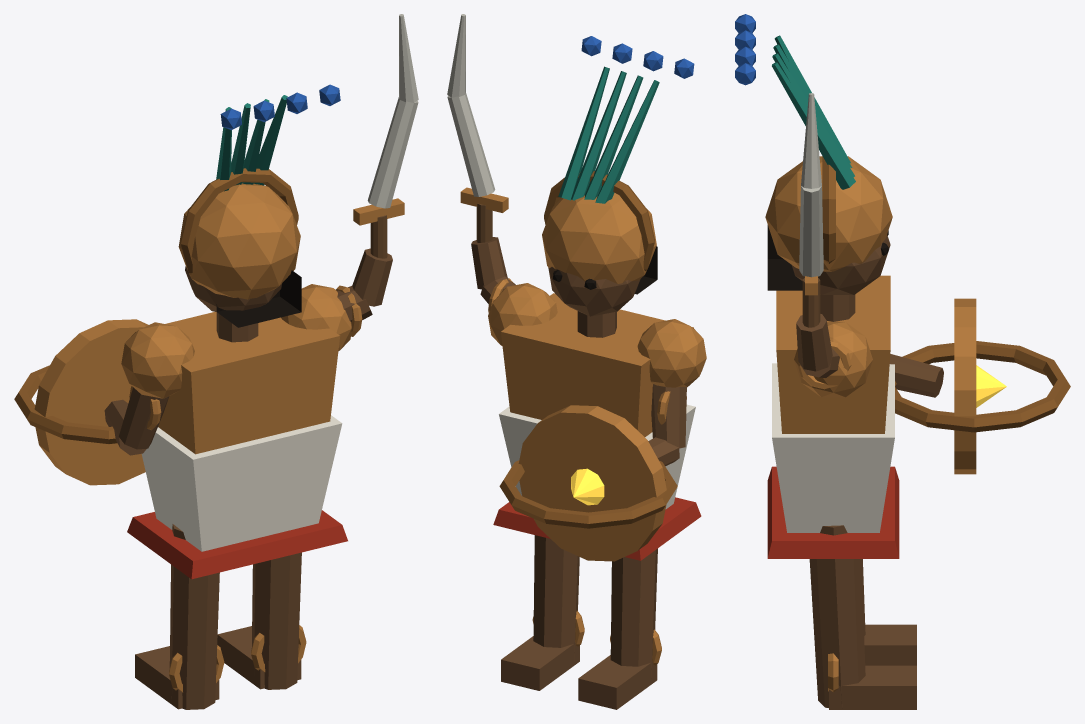
The model's file is sangam_warrior_rig.glb.
3 renders of one model, left to right at view 1: azimuth 30°, elevation 25°; view 2: azimuth 150°, elevation 25°; view 3: azimuth 270°, elevation 25°, orthographic. The views are drawn at different scales.
Visible parts, largest first — view 1: body, armL, legL, legR, armR; view 2: body, armL, legL, legR, armR; view 3: body, armL, legR, armR, legL.
Boxes of the visible parts, x1,y1,x2,y2 form: body: [121, 84, 351, 579]; armL: [14, 319, 169, 485]; legL: [135, 524, 224, 709]; legR: [217, 552, 306, 689]; armR: [336, 14, 418, 336]; body: [488, 36, 706, 560]; armL: [499, 384, 686, 561]; legL: [578, 548, 661, 709]; legR: [501, 535, 584, 690]; armR: [447, 14, 515, 313]; body: [735, 14, 899, 558]; armL: [889, 298, 1070, 474]; legR: [809, 525, 916, 709]; armR: [796, 93, 851, 389]; legL: [861, 559, 916, 665].
Bounding box in the file's own units: 0.8339 × 1.66 × 0.7638.
